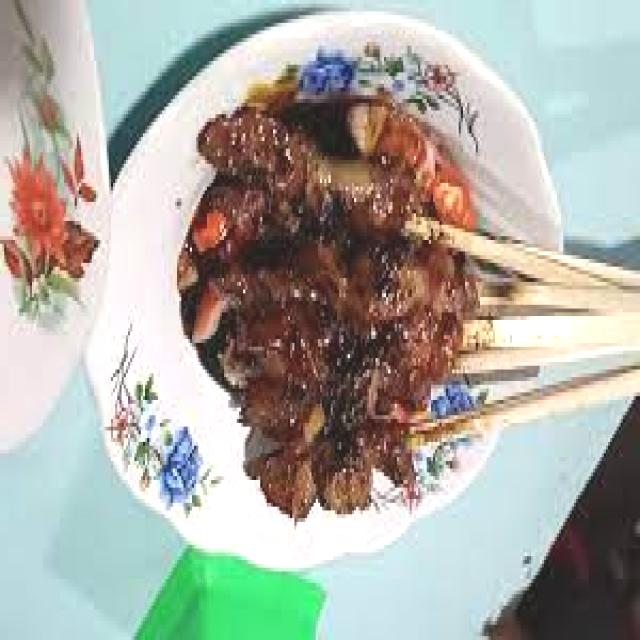sate: (144, 103, 640, 530)
